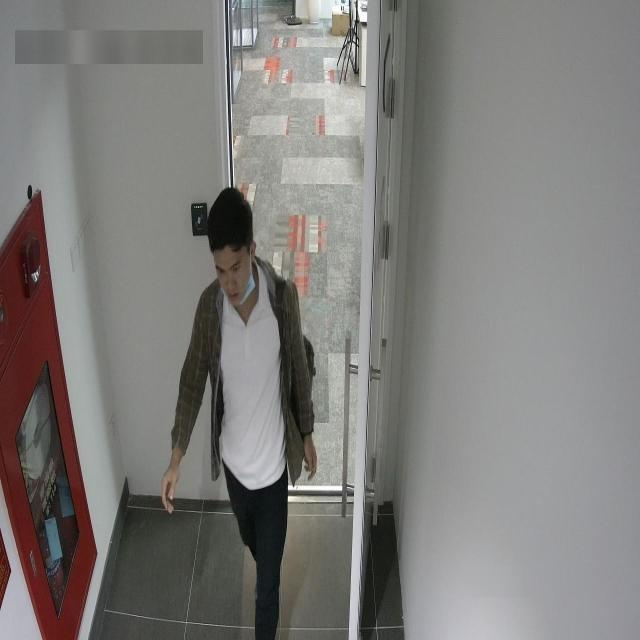hairnet: (216, 246, 255, 308)
